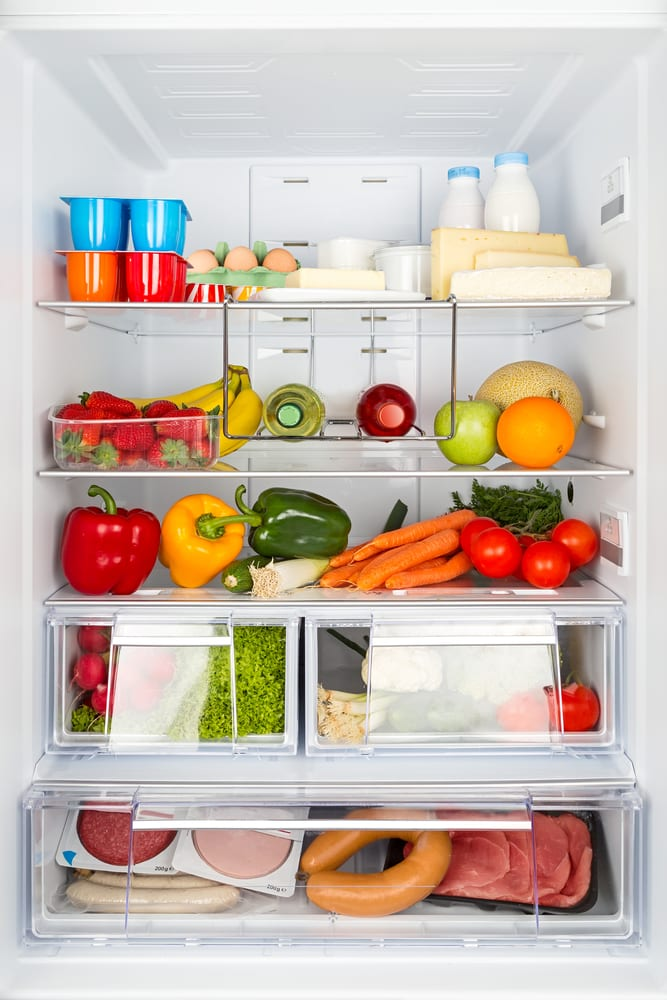Banana: (217, 365, 264, 468)
Beef: (449, 817, 603, 920), (81, 807, 156, 860)
Bell Pepper: (233, 473, 352, 563), (155, 495, 242, 588)
Carrot: (352, 525, 461, 593), (353, 508, 482, 551), (383, 551, 472, 590)
Cheese: (427, 220, 637, 308)
Cilantro: (450, 477, 567, 538)
Egg: (257, 242, 298, 282), (222, 242, 258, 283), (183, 244, 223, 280)
Orange: (492, 390, 577, 466)
Strawberry: (107, 414, 161, 457), (79, 387, 137, 425), (157, 404, 212, 444), (140, 395, 182, 425)
Tomato: (469, 526, 522, 581), (549, 516, 601, 571), (520, 536, 572, 590)
